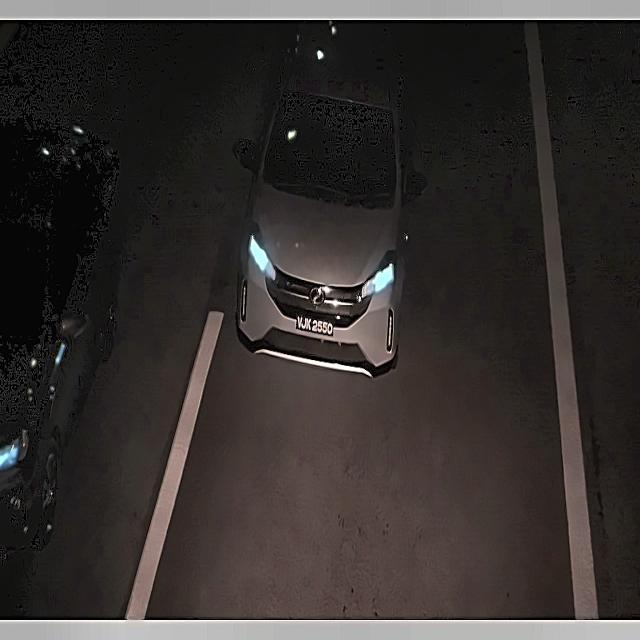car: (290, 307, 337, 343)
